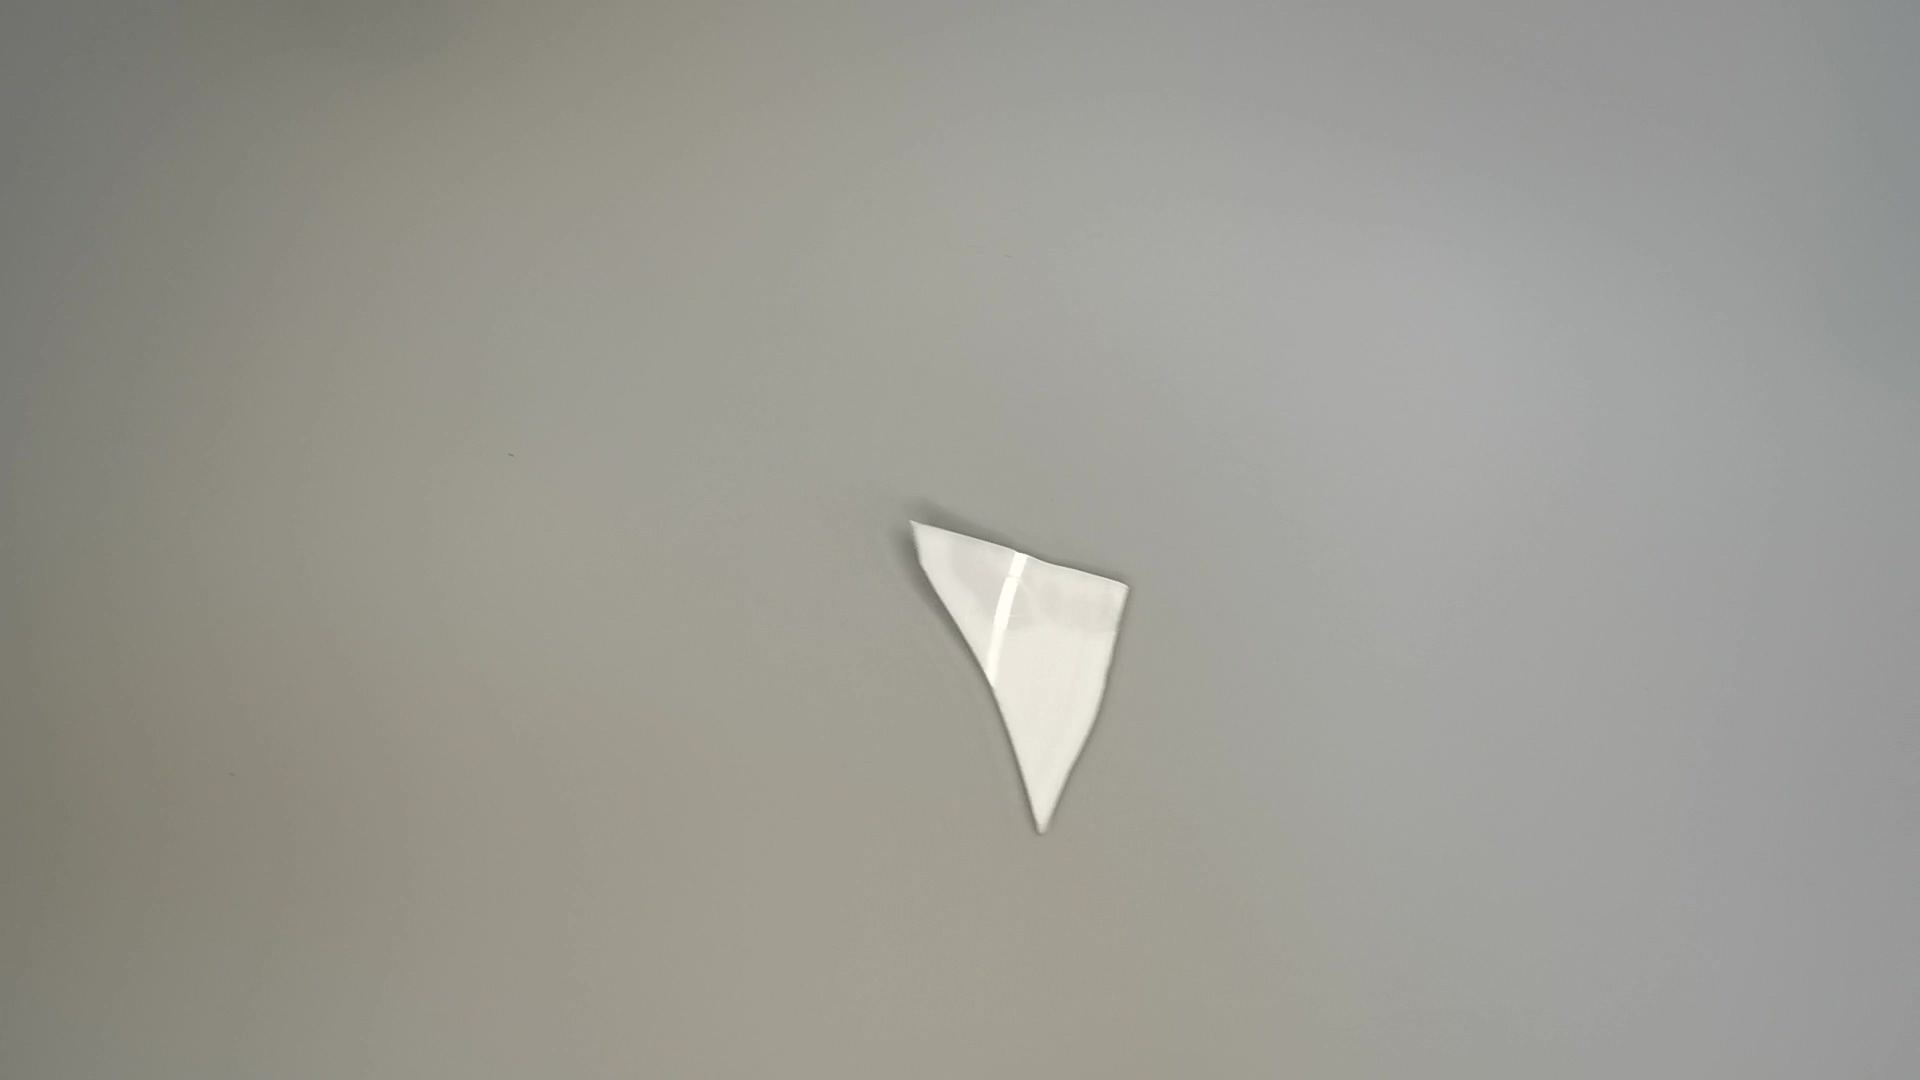ceramic: (899, 512, 1138, 852)
